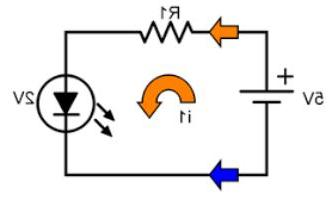Battery: (235, 62, 297, 124)
